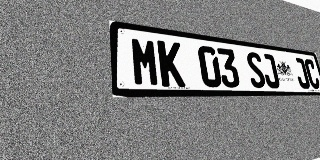0: (197, 45, 222, 87)
3: (217, 48, 241, 88)
C: (303, 59, 320, 89)
J: (260, 53, 281, 88), (292, 57, 311, 89)
K: (157, 40, 186, 87)
M: (130, 36, 161, 87)
S: (245, 51, 267, 88)
